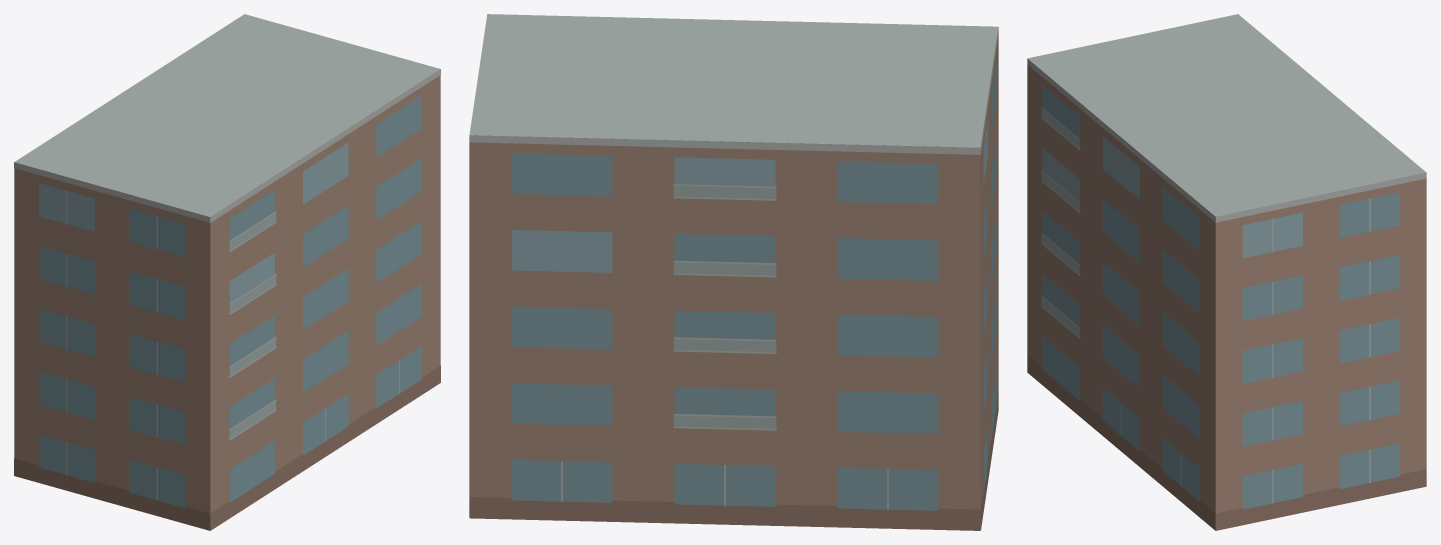
Rendered from survey-upis-32708356.glb.
3 views of the same model, side by side, from view 1: azimuth 30°, elevation 25°; view 2: azimuth 150°, elevation 25°; view 3: azimuth 270°, elevation 25° (orthographic). The views are drawn at different scales.
Parts seen in each view (by area): view 1: survey-upis-32708356.tmp; view 2: survey-upis-32708356.tmp; view 3: survey-upis-32708356.tmp.
Part boxes in pixels (x1,y1,x2,y2): survey-upis-32708356.tmp: [14, 14, 440, 530]; survey-upis-32708356.tmp: [469, 14, 998, 530]; survey-upis-32708356.tmp: [1027, 14, 1426, 530].
Size of the model in its own units: 18.16 by 13.1 by 15.11.
